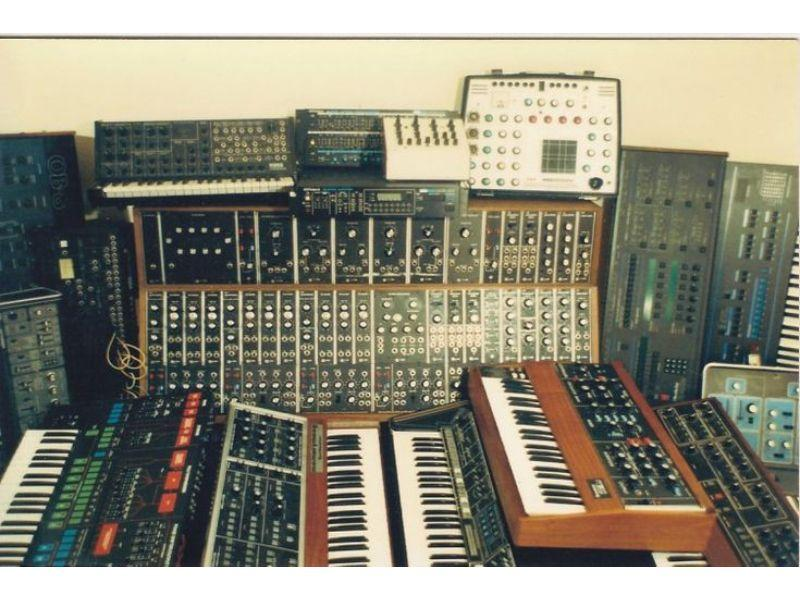synthesizer: (466, 352, 721, 549), (7, 397, 204, 554), (226, 384, 371, 557), (90, 108, 303, 198), (393, 388, 451, 554)
